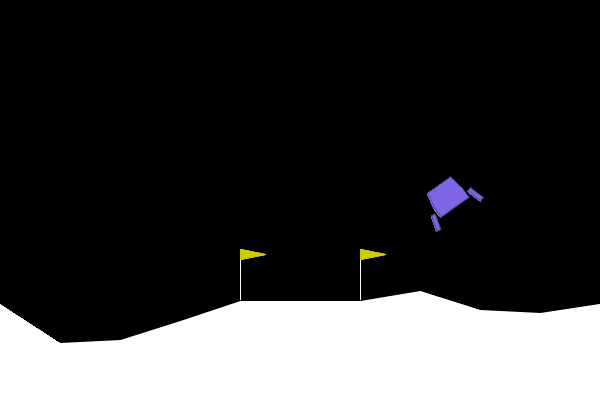lander: (413, 166, 485, 234)
